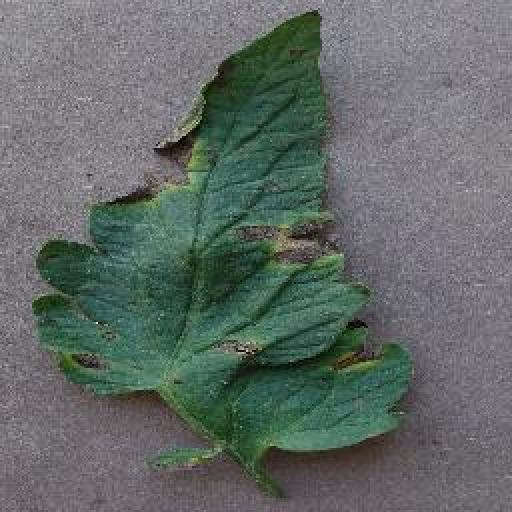disease_tomato: (40, 7, 411, 468)
